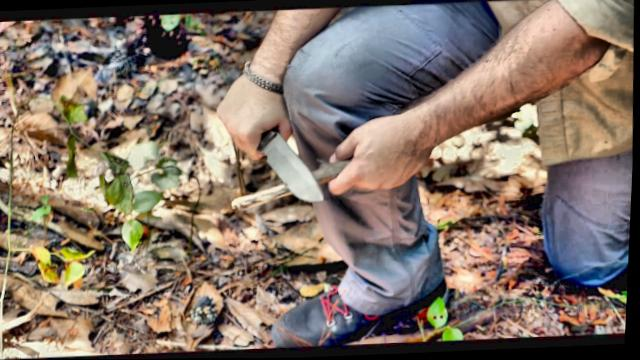knife: (232, 112, 332, 209)
